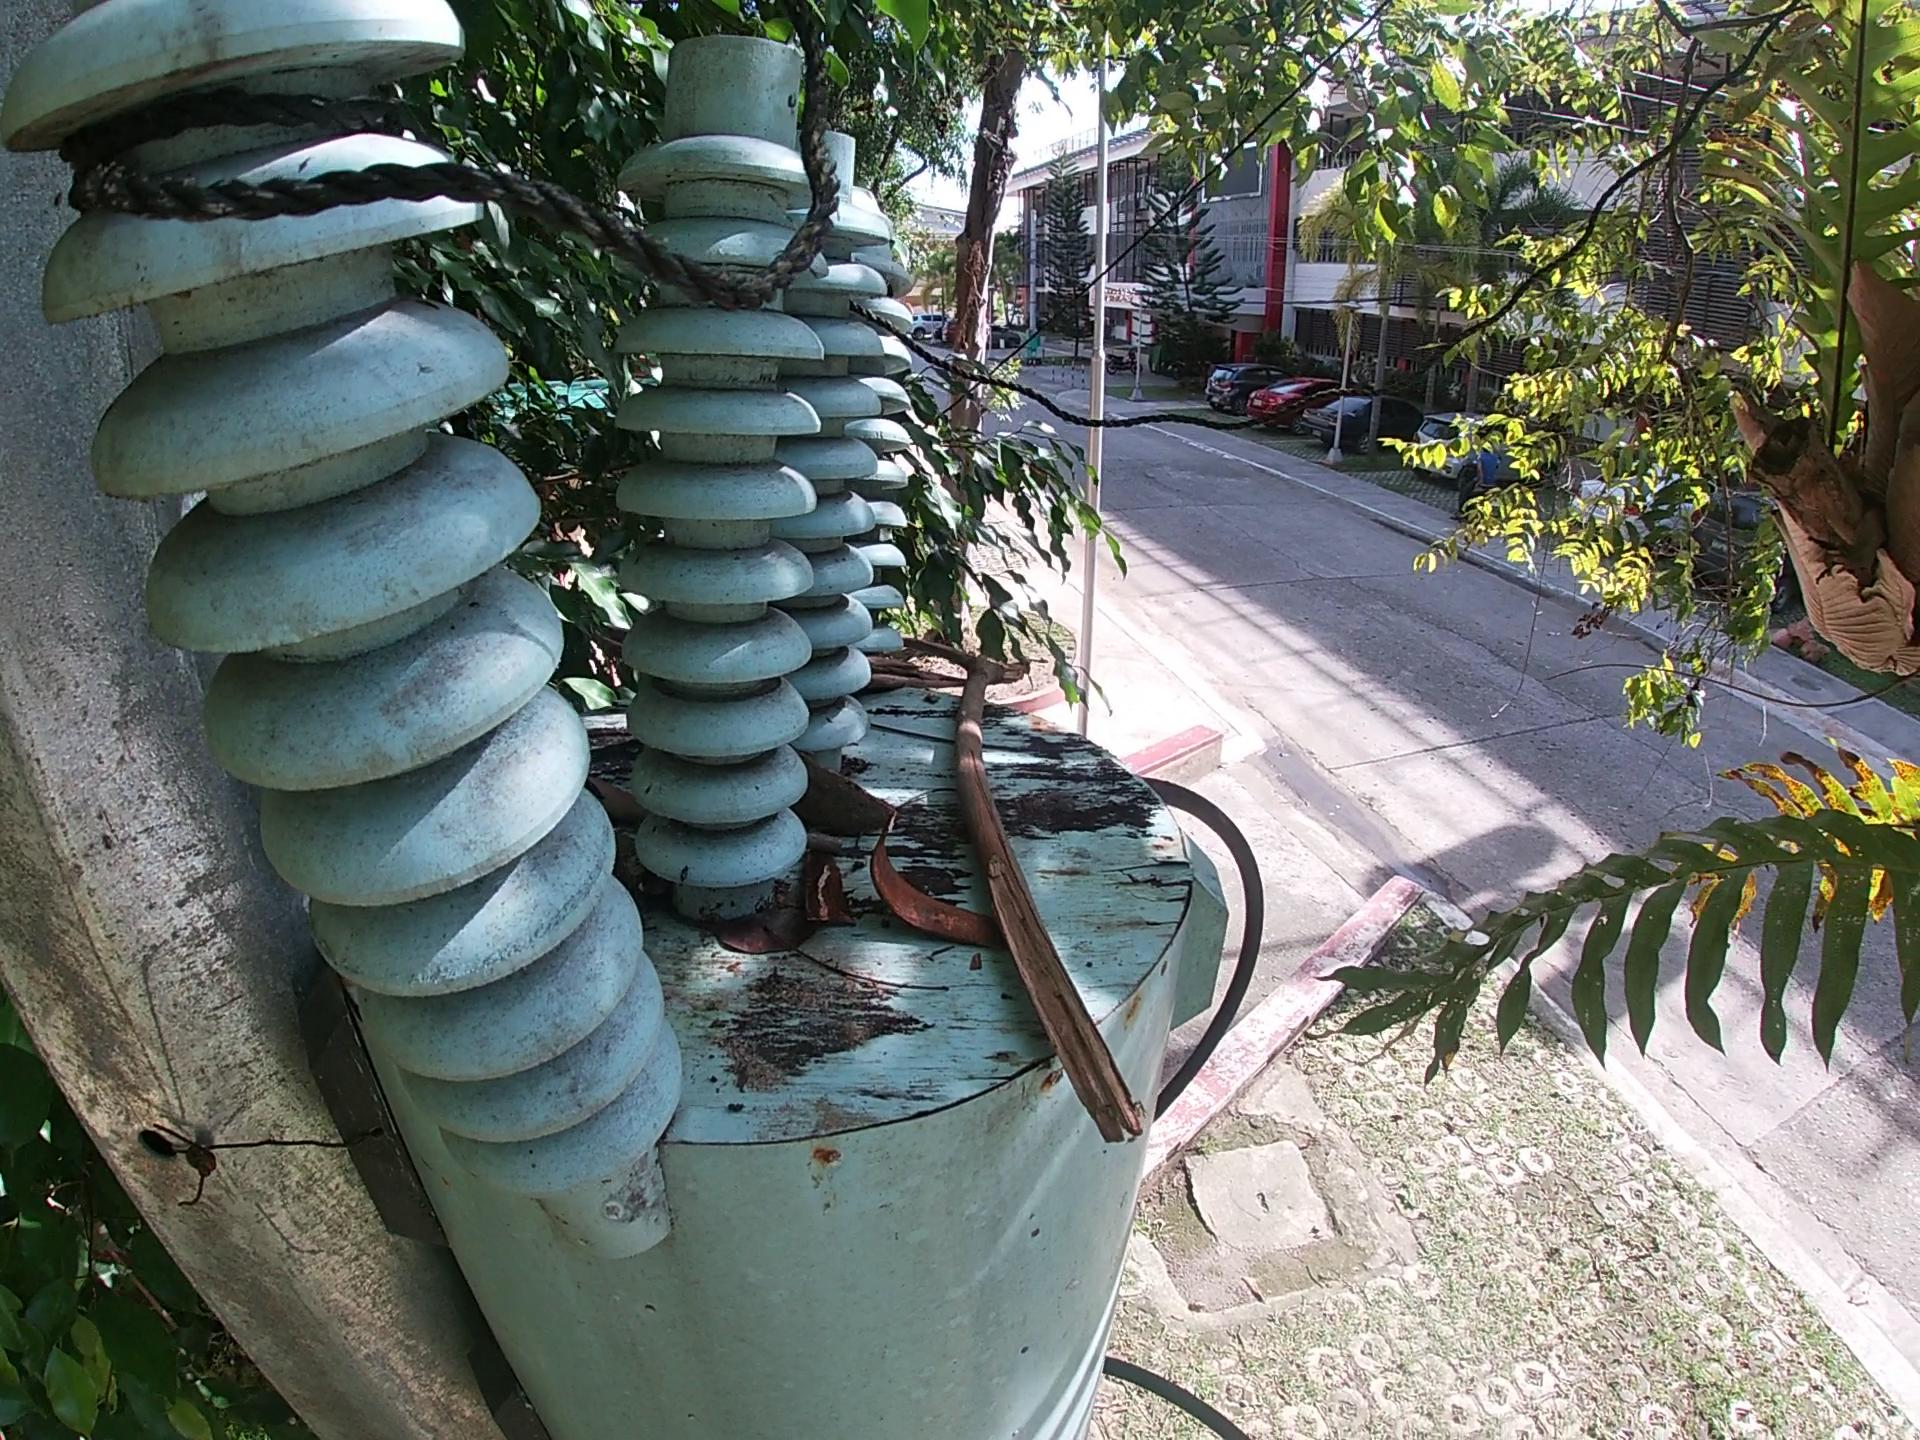leaf: (689, 885, 819, 973)
mahogany fruit: (865, 805, 1007, 950), (788, 755, 904, 836), (800, 847, 847, 929)
tree branch: (900, 632, 1150, 1153), (859, 655, 969, 694), (801, 833, 847, 859)
